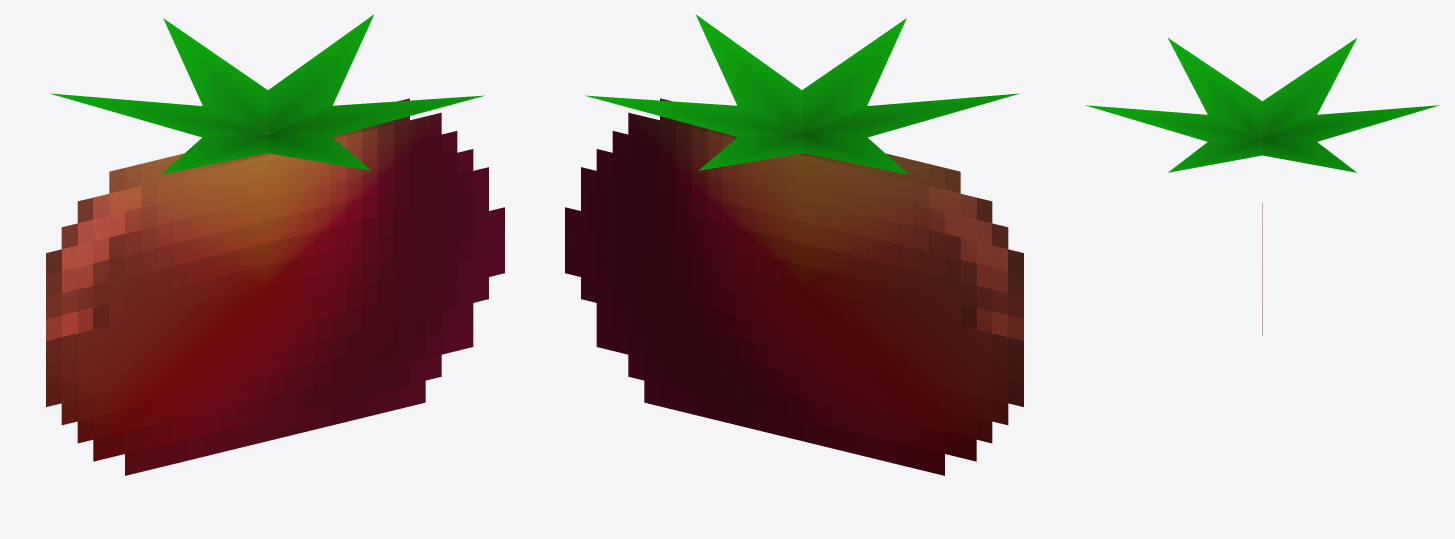
The model's file is Tomato.glb.
The picture shows the model from 3 angles, left to right: view 1: azimuth 30°, elevation 25°; view 2: azimuth 150°, elevation 25°; view 3: azimuth 270°, elevation 25°; orthographic projection. The views are drawn at different scales.
Visible parts, largest first — view 1: Tomato; view 2: Tomato; view 3: Tomato.
Boxes of the visible parts, left/top/right/bottom form: Tomato: left=46, top=14, right=504, bottom=475; Tomato: left=565, top=14, right=1023, bottom=475; Tomato: left=1085, top=38, right=1439, bottom=335.
Size of the model in its own units: 0.56 by 0.3897 by 0.4.
Materials: 2 (2 with a texture image).
